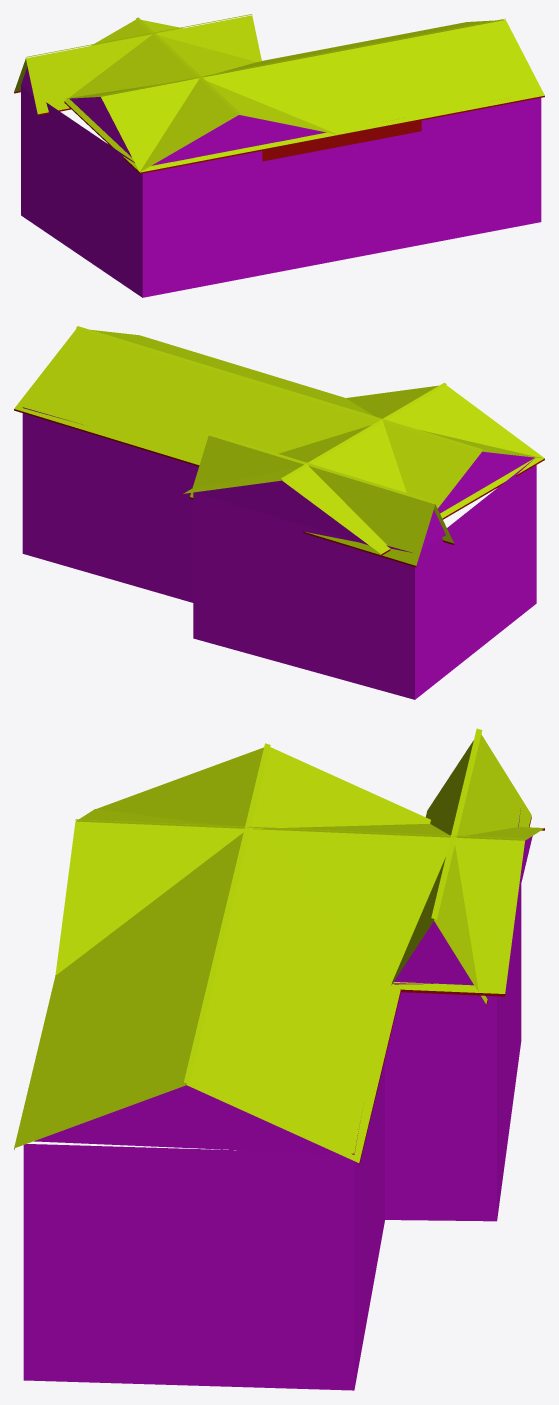
The model's file is bgj_351.glb.
The picture shows the model from 3 angles, top to bottom: view 1: azimuth 30°, elevation 25°; view 2: azimuth 150°, elevation 25°; view 3: azimuth 270°, elevation 25°; orthographic projection. The views are drawn at different scales.
Visible parts, largest first — view 1: bgj_351; view 2: bgj_351; view 3: bgj_351.
Boxes of the visible parts, box(x1,y1,x2,y2) form: bgj_351: box(14, 14, 544, 297); bgj_351: box(14, 326, 544, 699); bgj_351: box(14, 728, 544, 1390).
Bounding box in the file's own units: 36.14 × 14.19 × 22.3.
